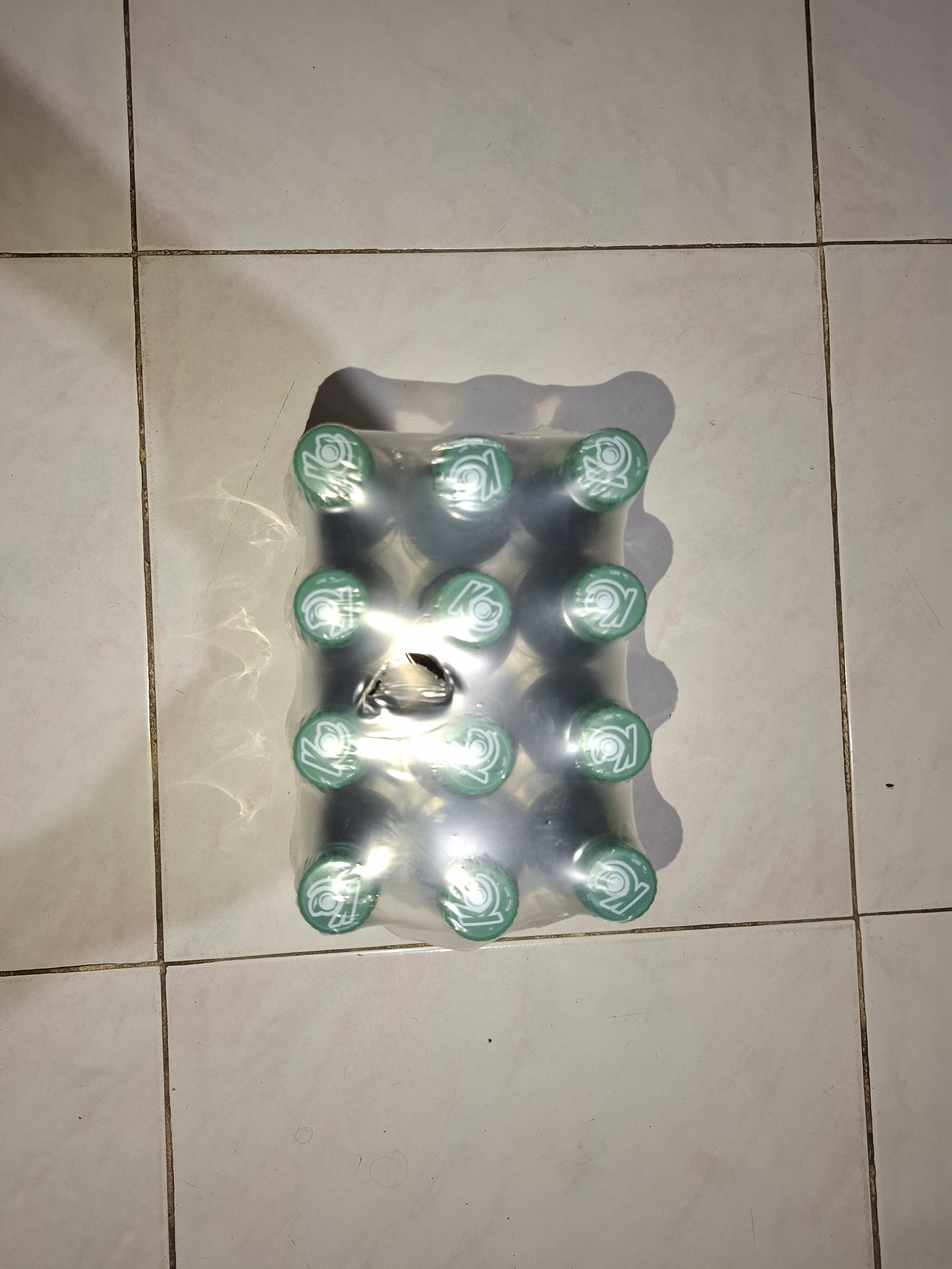Tampa Refrigerante Kuat: (426, 426, 520, 523), (568, 834, 664, 928), (422, 566, 516, 659), (560, 554, 650, 647), (568, 418, 652, 516), (437, 848, 524, 942), (294, 849, 383, 939), (563, 700, 652, 787), (296, 417, 376, 509), (431, 711, 513, 799), (291, 568, 372, 650), (291, 709, 370, 793)
